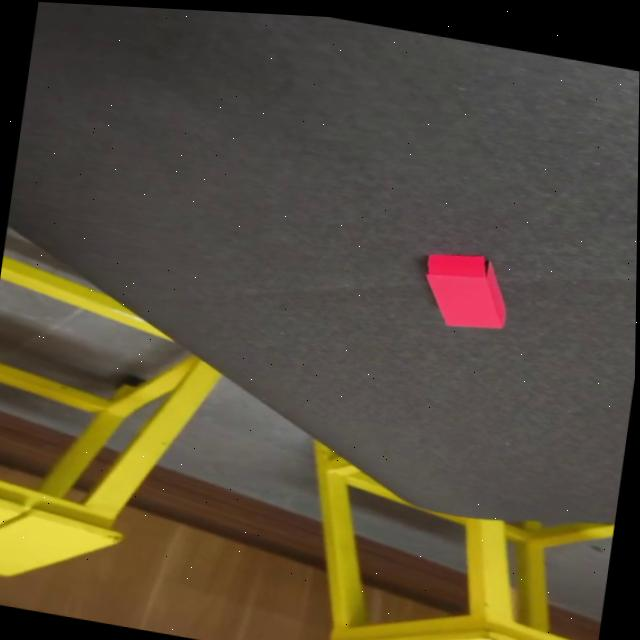red block: (415, 244, 513, 335)
